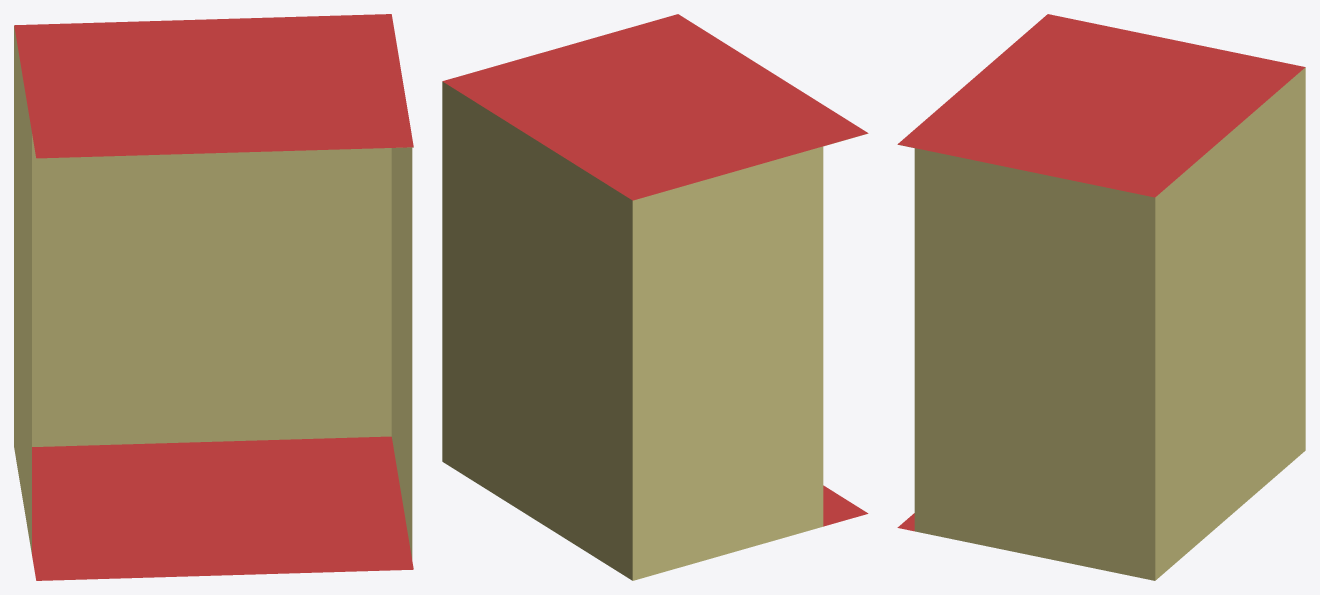
The picture shows the model from 3 angles, left to right: view 1: azimuth 30°, elevation 25°; view 2: azimuth 150°, elevation 25°; view 3: azimuth 270°, elevation 25°; orthographic projection. The views are drawn at different scales.
Bounding box in the file's own units: 10.38 × 9.75 × 10.1.
